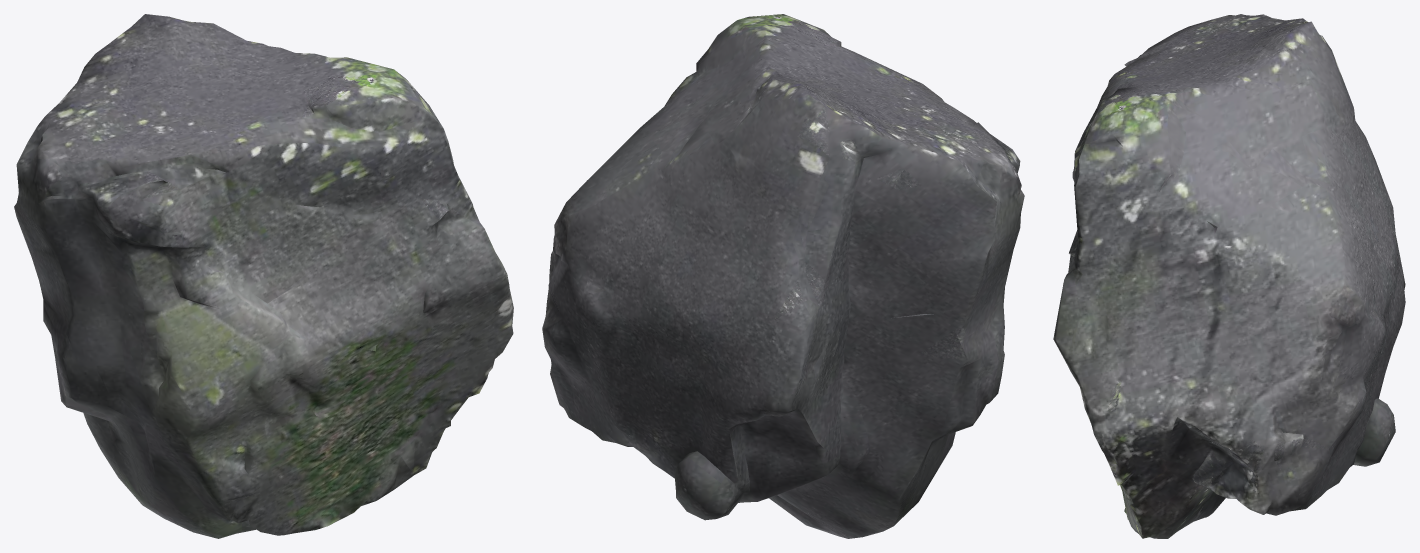
File: lichen-rock-high.glb
3 views of the same model, side by side, from view 1: azimuth 30°, elevation 25°; view 2: azimuth 150°, elevation 25°; view 3: azimuth 270°, elevation 25° (orthographic). The views are drawn at different scales.
Parts seen in each view (by area): view 1: lichen-rock-high; view 2: lichen-rock-high; view 3: lichen-rock-high.
Part boxes in pixels (box(x1,y1,x2,y2)): lichen-rock-high: box(14, 14, 513, 538); lichen-rock-high: box(542, 14, 1024, 538); lichen-rock-high: box(1053, 14, 1405, 538).
Bounding box in the file's own units: 0.9326 × 1 × 0.6771.
Materials: 1 (1 with a texture image).
